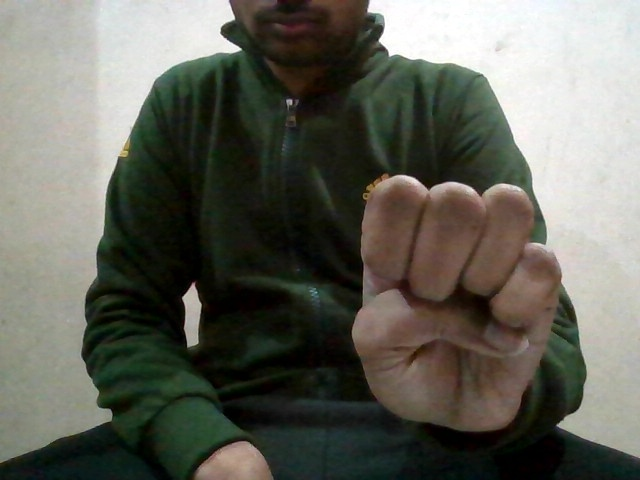E: (350, 170, 567, 428)
